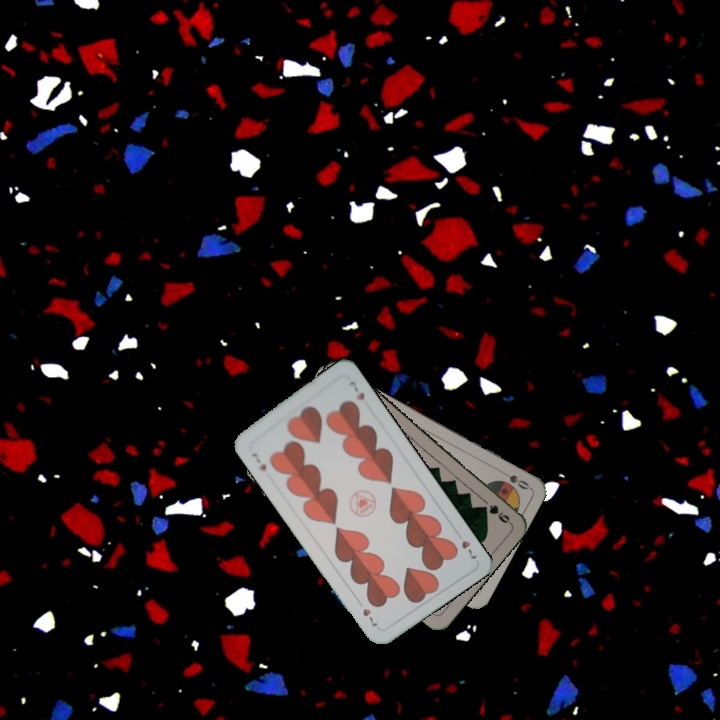G9: (479, 496, 513, 526)
H7: (451, 527, 479, 562), (248, 448, 269, 474)
SO: (495, 466, 532, 492)
